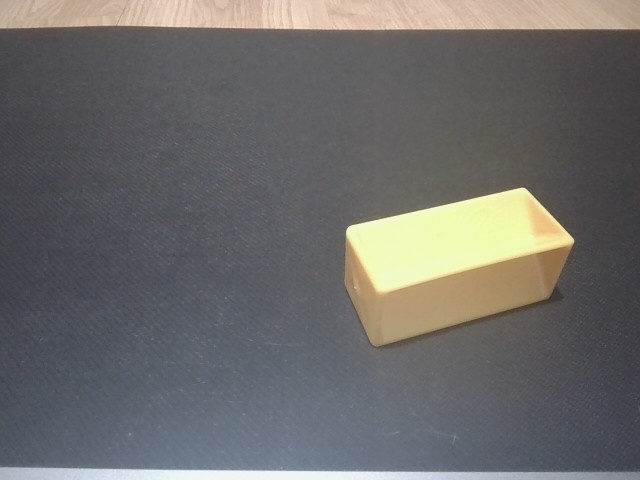YellowSample: (338, 183, 578, 351)
